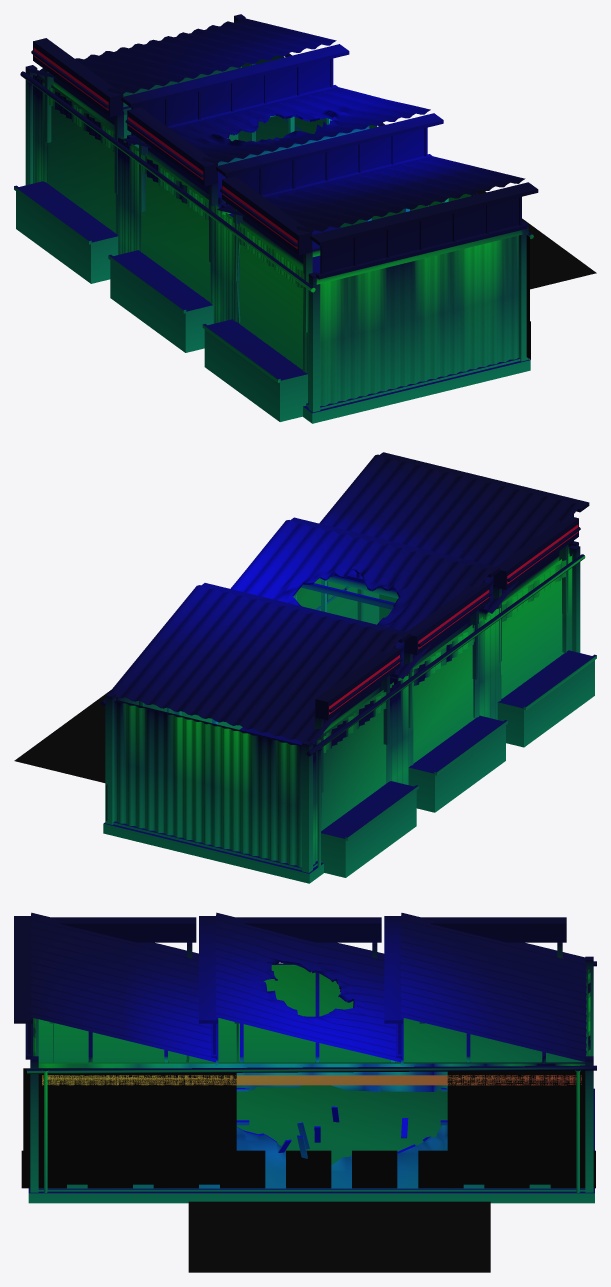
File: civstorageb_damaged.glb
3 renders of one model, top to bottom at view 1: azimuth 30°, elevation 25°; view 2: azimuth 150°, elevation 25°; view 3: azimuth 270°, elevation 25°, orthographic. The views are drawn at different scales.
Visible parts, largest first — view 1: lod0; view 2: lod0; view 3: lod0.
Boxes of the visible parts, <box> form: lod0: <box>14,14,596,423</box>; lod0: <box>14,452,596,883</box>; lod0: <box>14,912,596,1272</box>.
Size of what is drawn, in the model's own units: 11.72 by 5.49 by 15.43.
